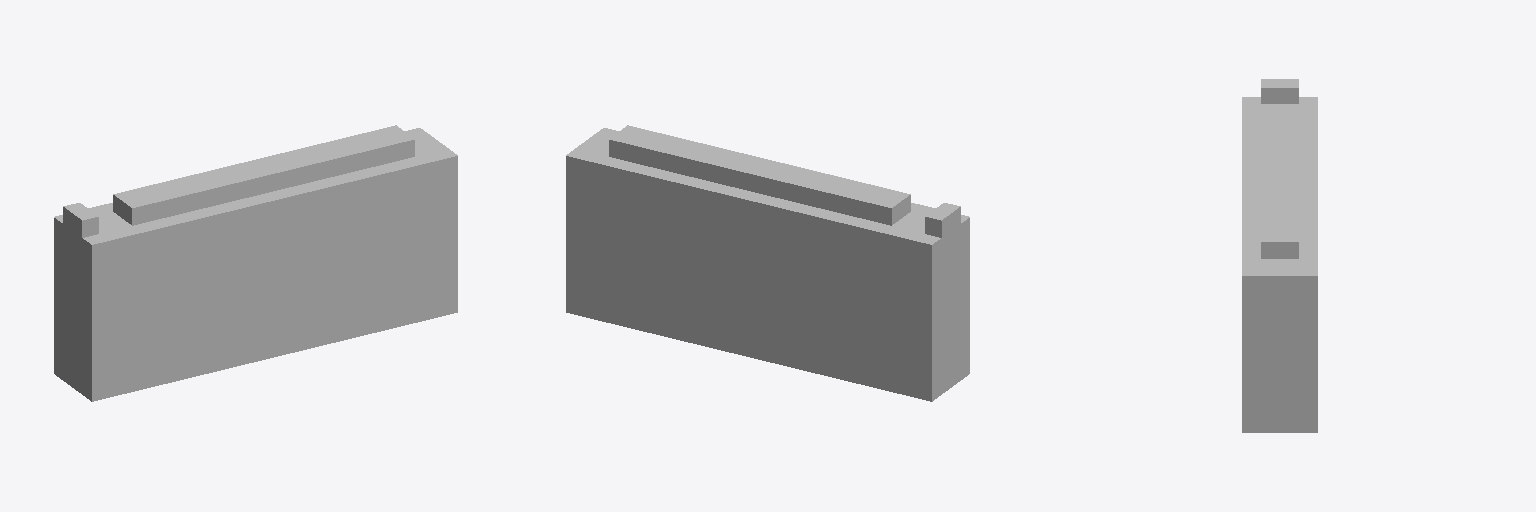
The model's file is Door Generic Right.obj.
3 renders of one model, left to right at view 1: azimuth 30°, elevation 25°; view 2: azimuth 150°, elevation 25°; view 3: azimuth 270°, elevation 25°, orthographic.
Bounding box in the file's own units: 22 × 10 × 4.